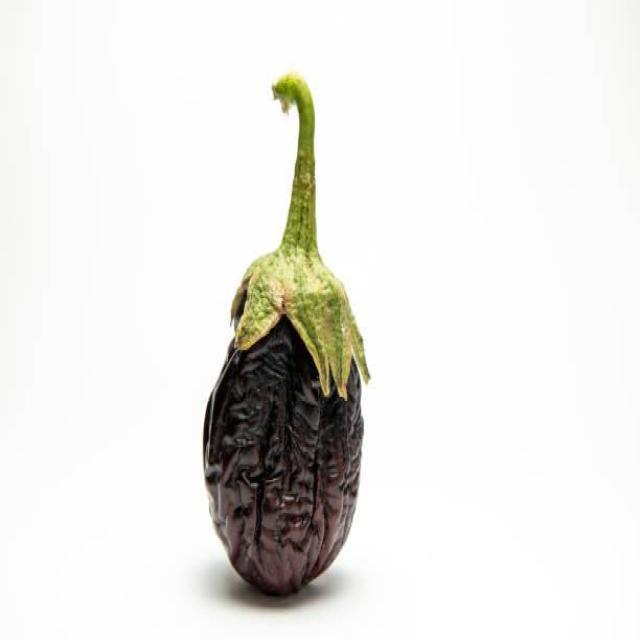eggplant: (201, 72, 369, 597)
